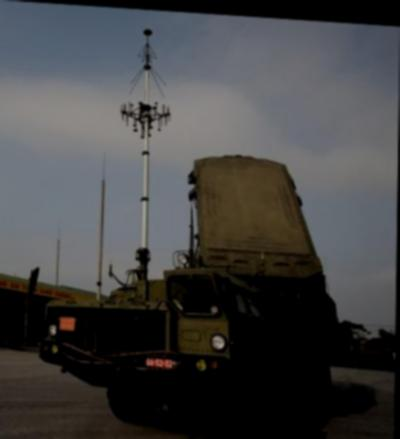License_Plate: (146, 355, 174, 371)
